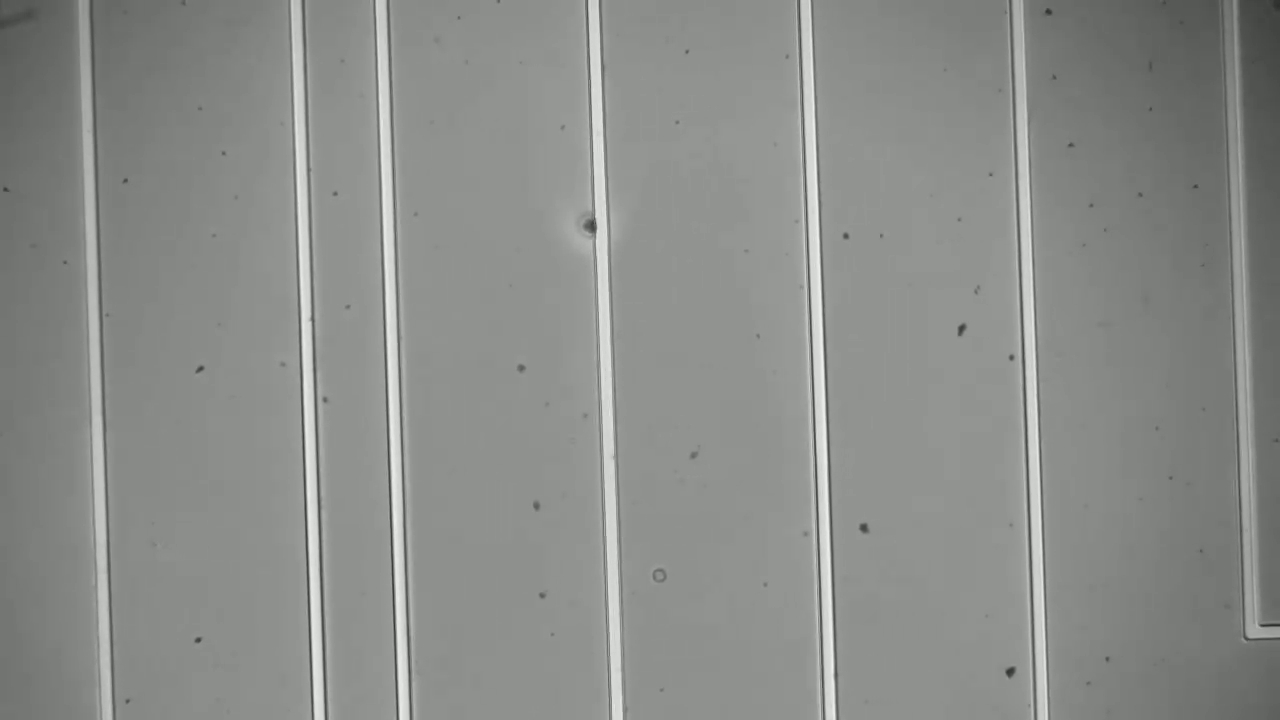stains_enbedded: (573, 201, 615, 245)
